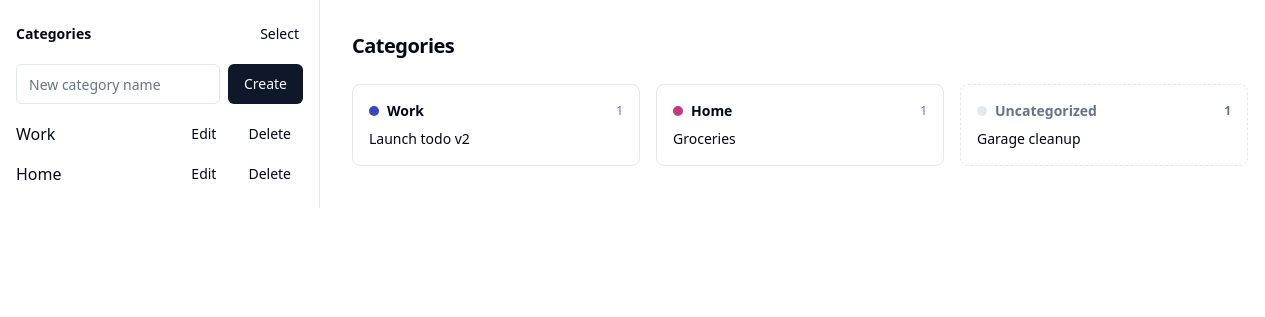
Test: layout: workspace › categories page offers bulk selection with the count in view
Click the button "Select". click: [280, 34]
box: [248,16,311,52]
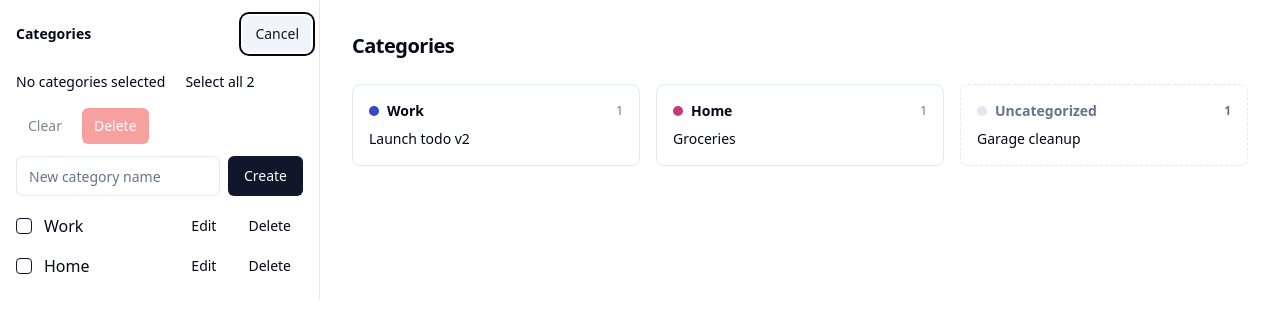
Check: the checkbox named "Select Work" is shown, box [16,218,32,234]
Check: the button "Select all 2" is shown, box [173,64,267,100]
Check: the button "Clear" is shown, box [16,108,74,144]
